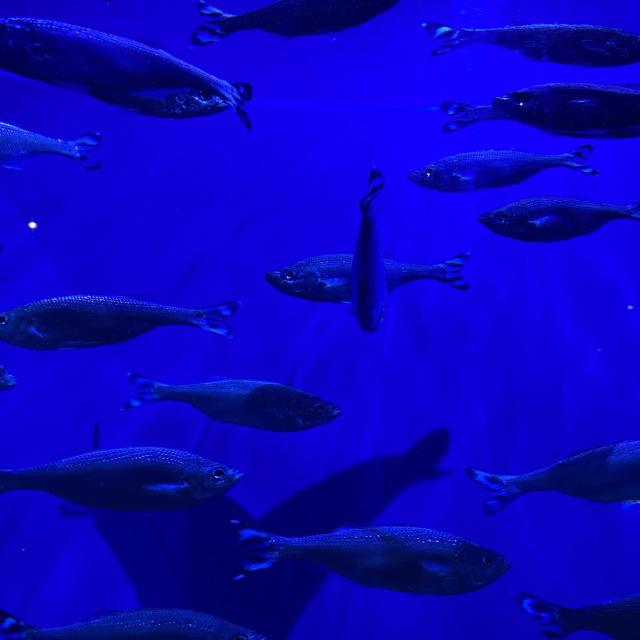fish: (0, 10, 245, 120), (243, 518, 505, 590), (2, 437, 249, 511), (0, 285, 262, 352), (435, 80, 640, 150), (131, 368, 340, 434), (467, 433, 640, 512), (216, 0, 432, 57), (260, 247, 484, 301), (437, 15, 640, 73), (401, 140, 601, 193), (0, 604, 271, 640), (482, 190, 639, 250), (0, 112, 132, 176), (346, 170, 394, 333), (518, 590, 640, 640)
